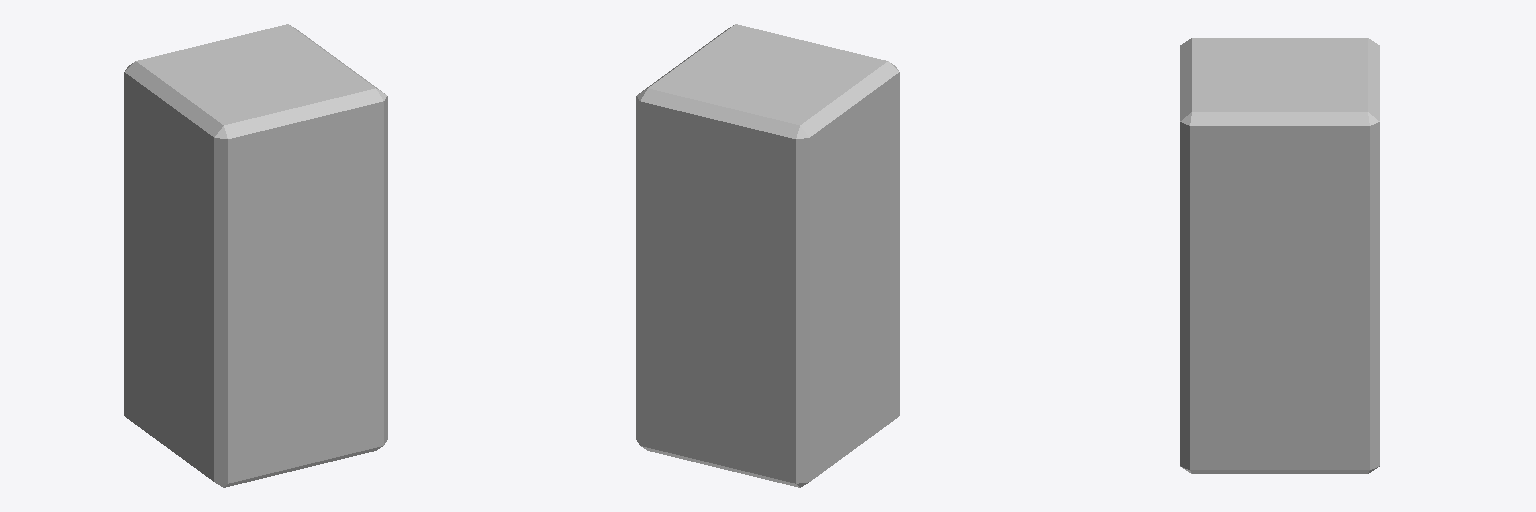
File: LeftLeg.obj
3 views of the same model, side by side, from view 1: azimuth 30°, elevation 25°; view 2: azimuth 150°, elevation 25°; view 3: azimuth 270°, elevation 25° (orthographic).
Visible parts, largest first — view 1: Left_Leg; view 2: Left_Leg; view 3: Left_Leg.
Part boxes in pixels (x1,y1,x2,y2): Left_Leg: (124,24,387,487); Left_Leg: (636,24,899,487); Left_Leg: (1180,38,1379,473).
Bounding box in the file's own units: 0.4972 × 0.9943 × 0.4972.